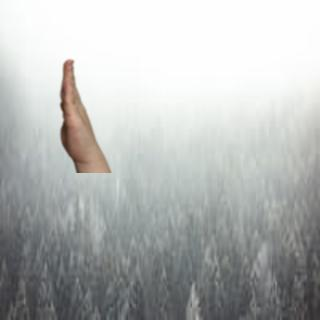RIGHT: (55, 56, 107, 163)
